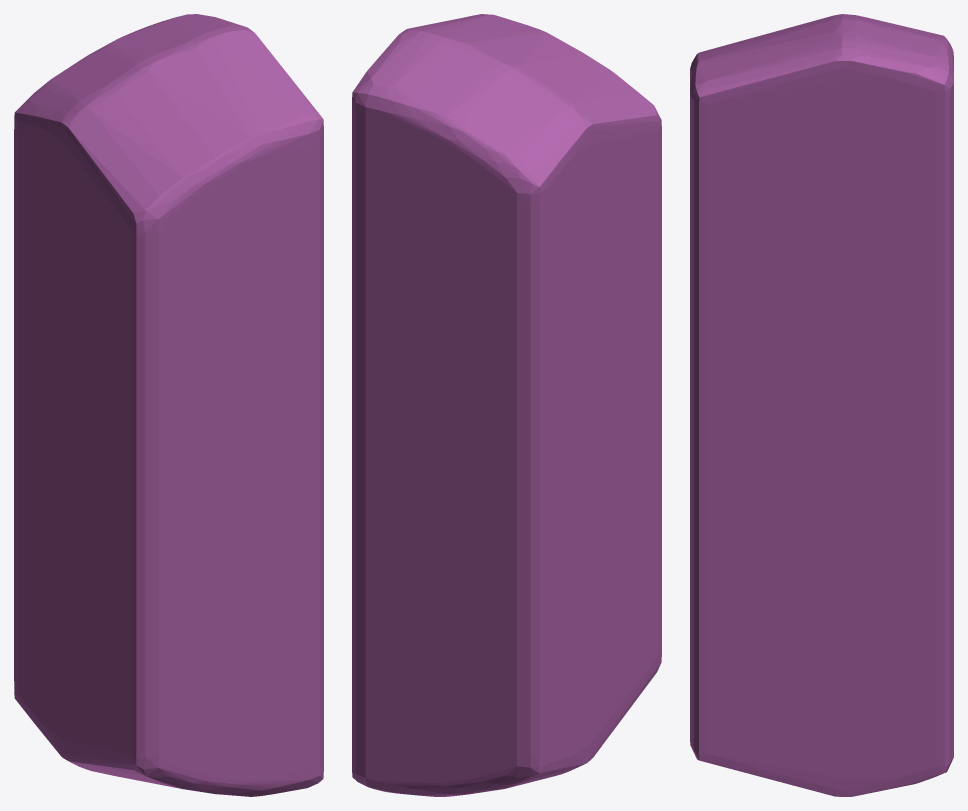
The model's file is left_forearm_collision_part_7.obj.
The picture shows the model from 3 angles, left to right: view 1: azimuth 30°, elevation 25°; view 2: azimuth 150°, elevation 25°; view 3: azimuth 270°, elevation 25°; orthographic projection.
Size of the model in its own units: 40.1 by 151 by 48.43.
